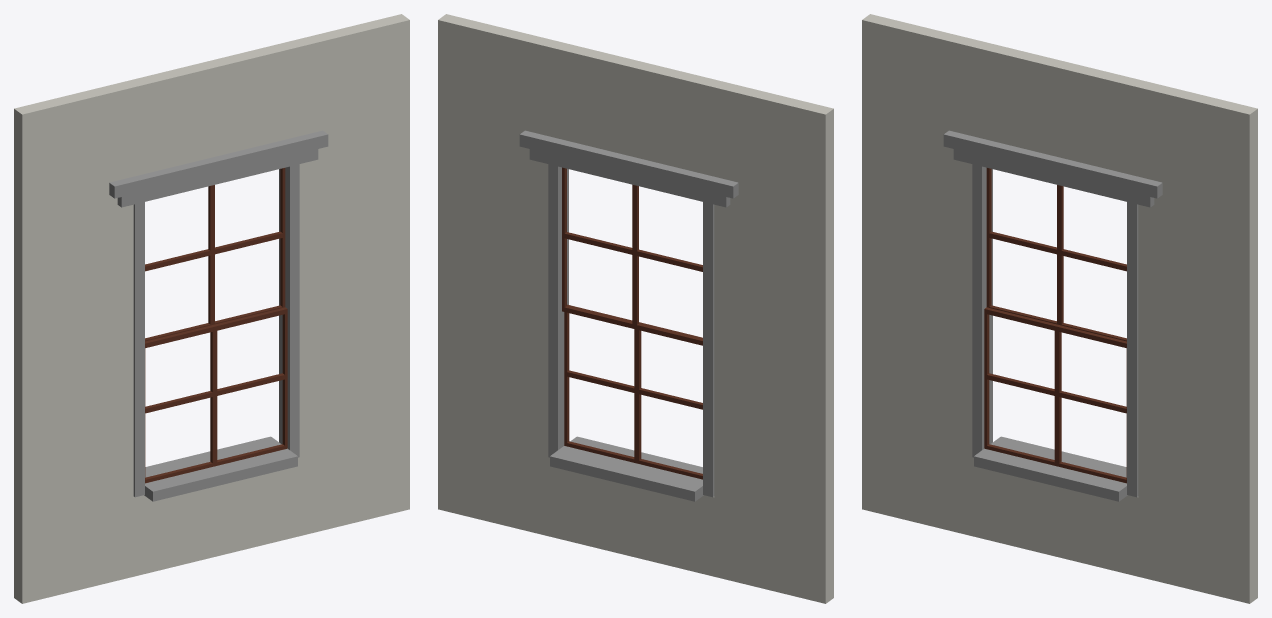
Rendered from window.fbx.
3 views of the same model, side by side, from view 1: azimuth 30°, elevation 25°; view 2: azimuth 150°, elevation 25°; view 3: azimuth 330°, elevation 25° (orthographic).
Parts seen in each view (by area): view 1: Window.Frame, Window.Pane; view 2: Window.Frame, Window.Pane; view 3: Window.Frame, Window.Pane.
Part boxes in pixels (x1=…): Window.Frame: x1=14, y1=14, x2=409, y2=603; Window.Pane: x1=145, y1=307, x2=287, y2=483; Window.Frame: x1=438, y1=14, x2=833, y2=603; Window.Pane: x1=564, y1=304, x2=702, y2=479; Window.Frame: x1=862, y1=14, x2=1257, y2=603; Window.Pane: x1=984, y1=307, x2=1126, y2=483.
Size of the model in its own units: 269 by 324 by 32.53.
